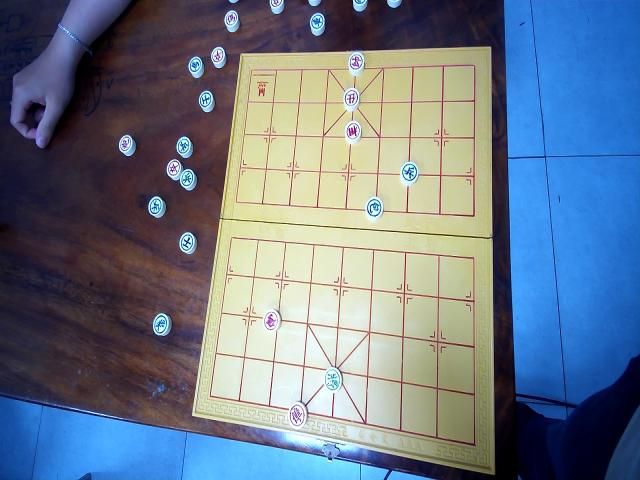piece: (288, 401, 308, 429), (152, 312, 172, 337), (399, 161, 418, 186), (324, 366, 342, 392), (344, 120, 362, 145), (365, 196, 383, 221), (178, 231, 196, 255), (263, 308, 281, 332), (210, 45, 227, 69), (223, 9, 240, 33), (348, 51, 364, 76), (310, 11, 326, 36), (118, 134, 136, 156), (148, 196, 166, 218), (176, 135, 193, 158), (180, 167, 197, 190), (343, 87, 359, 110), (188, 55, 204, 78), (166, 158, 182, 180), (198, 90, 214, 112), (268, 0, 284, 14), (352, 0, 367, 11), (386, 0, 402, 8), (307, 0, 321, 7), (228, 0, 240, 4)
